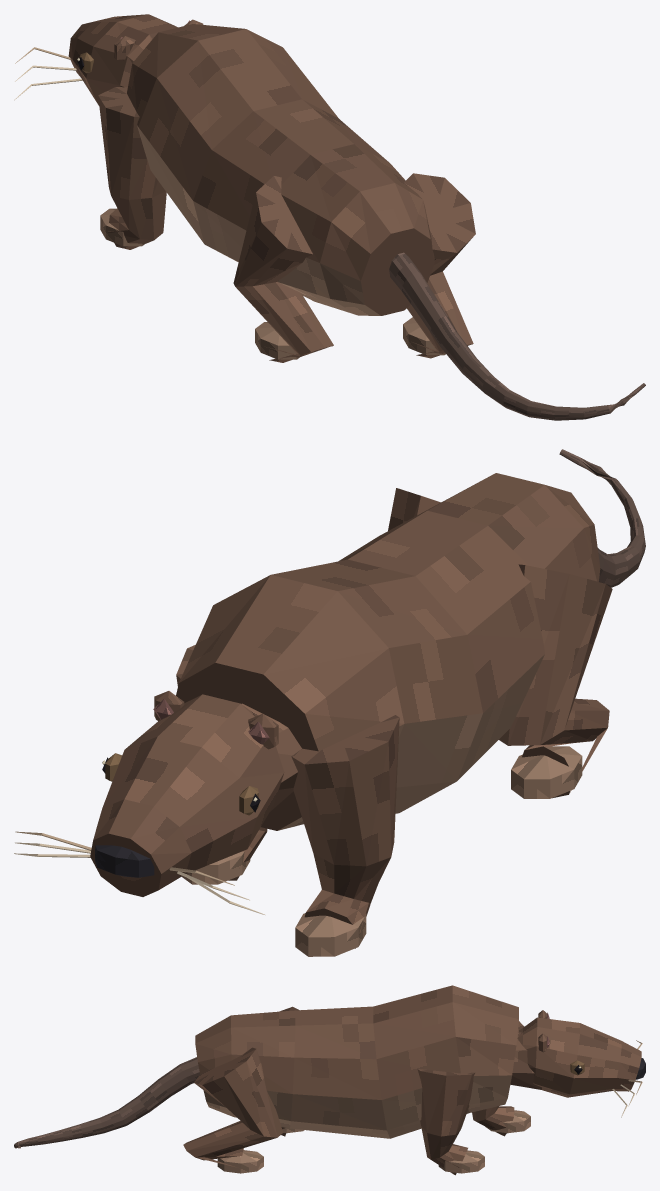
File: mon_muskrat.glb
3 renders of one model, top to bottom at view 1: azimuth 30°, elevation 25°; view 2: azimuth 150°, elevation 25°; view 3: azimuth 270°, elevation 25°, orthographic. The views are drawn at different scales.
Parts seen in each view (by area): view 1: closed_body; view 2: closed_body; view 3: closed_body.
Part boxes in pixels (x1=…): closed_body: x1=14, y1=14, x2=645, y2=420; closed_body: x1=14, y1=449, x2=645, y2=956; closed_body: x1=14, y1=985, x2=645, y2=1175.
Bounding box in the file's own units: 0.16 × 0.1657 × 0.5845.
1 material, 1 textured.
